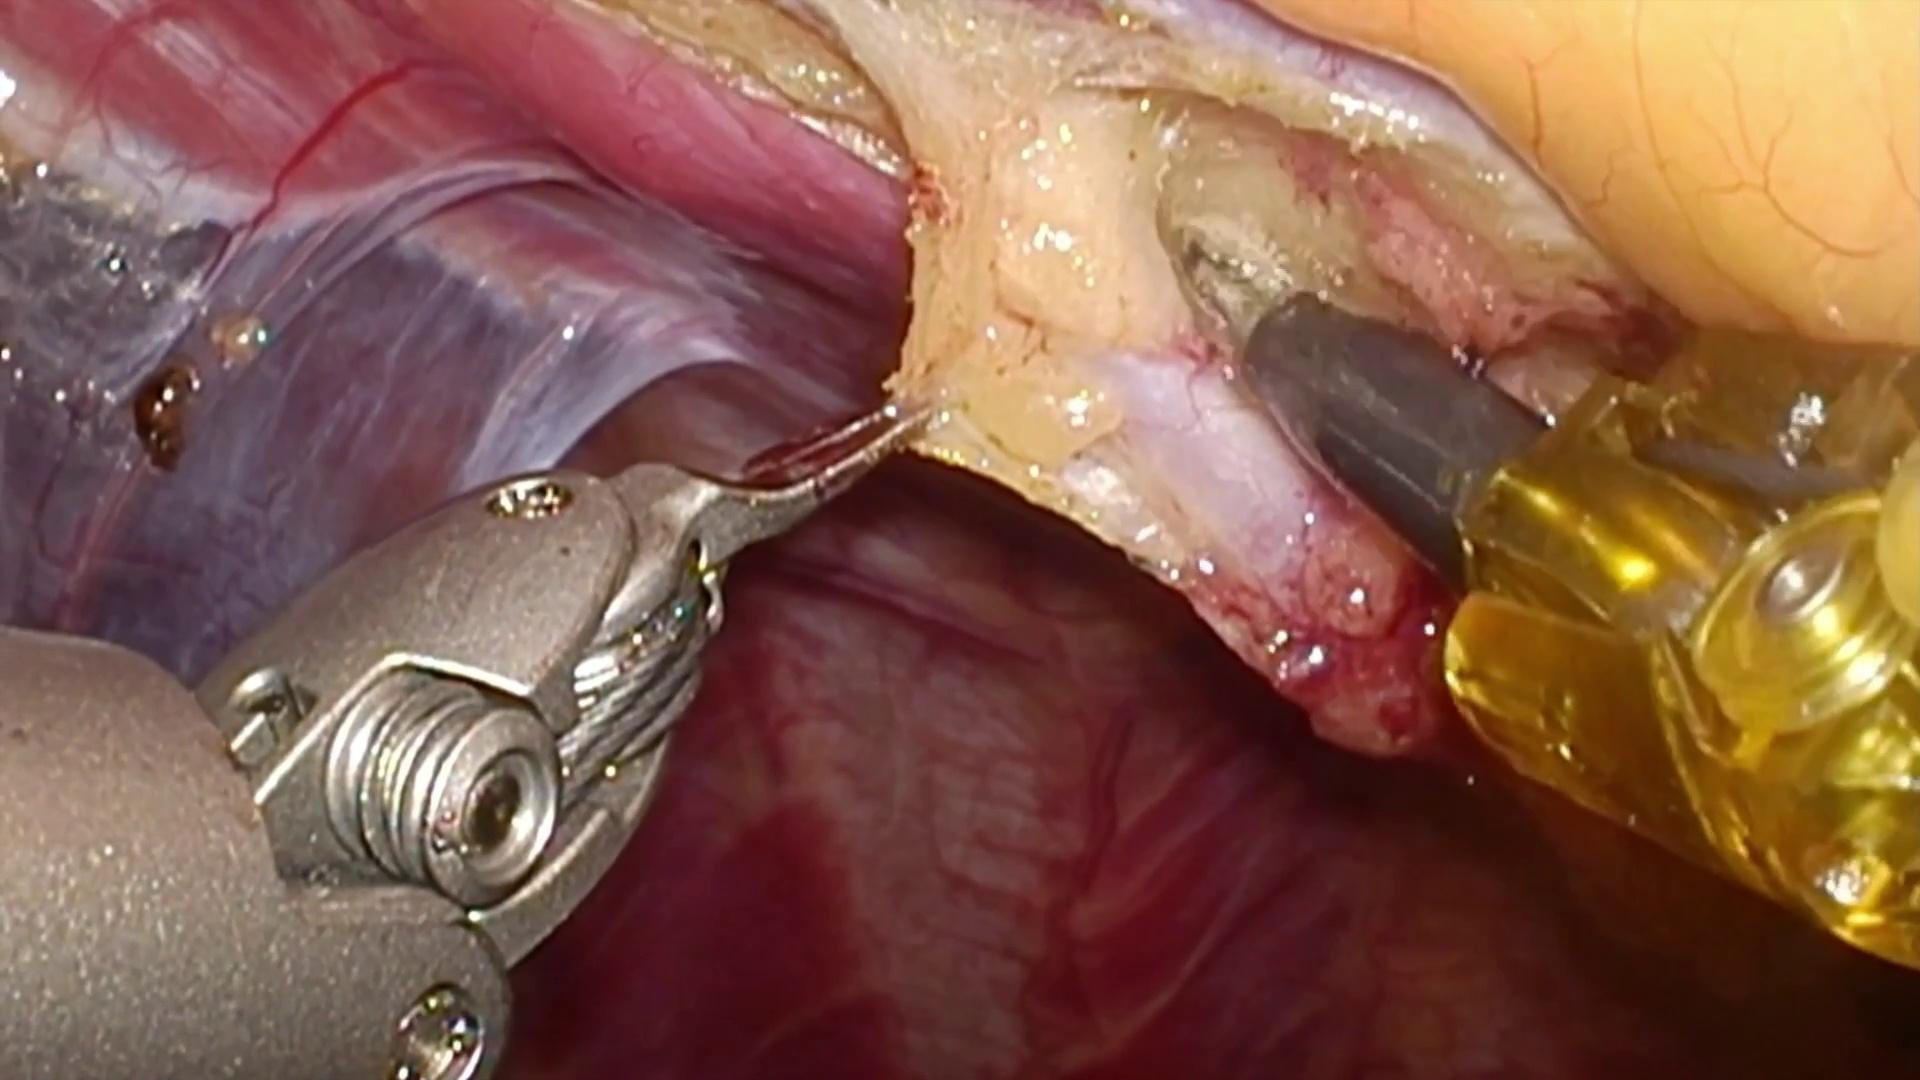Cautery_Spatula: (1174, 232, 1552, 583)
Debakey: (615, 359, 939, 603)
